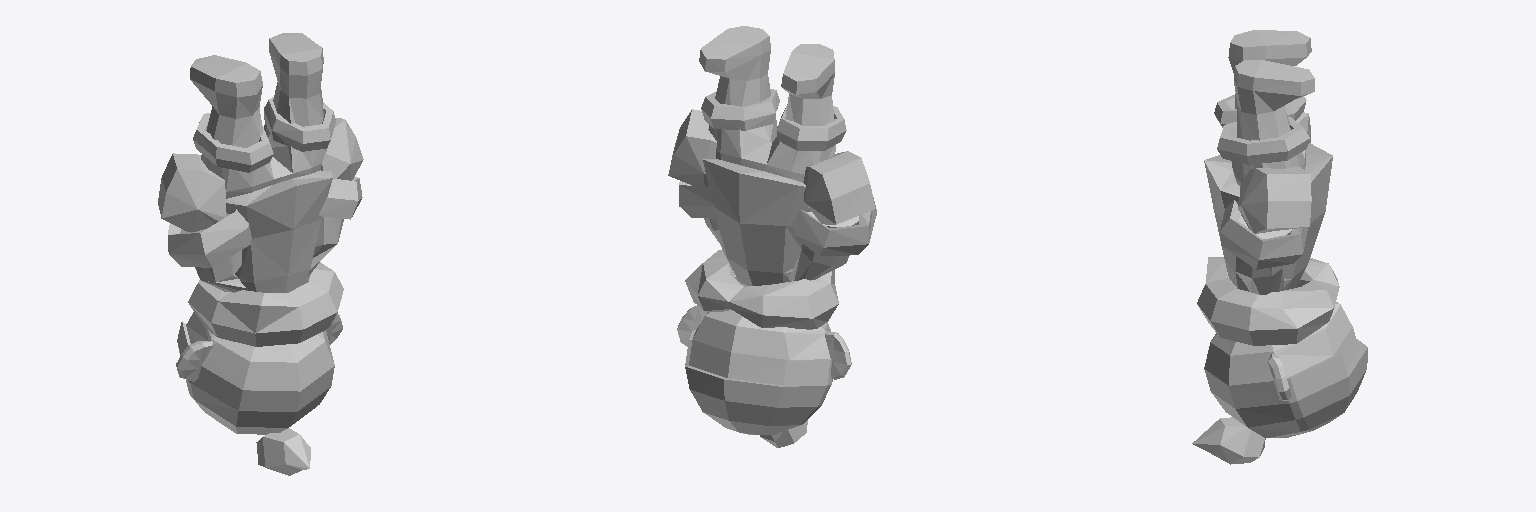
Rendered from eikacomer_000107.obj.
3 renders of one model, left to right at view 1: azimuth 30°, elevation 25°; view 2: azimuth 150°, elevation 25°; view 3: azimuth 270°, elevation 25°, orthographic.
Parts seen in each view (by area): view 1: Cylinder; view 2: Cylinder; view 3: Cylinder.
Part boxes in pixels (x1,y1,x2,y2): Cylinder: (158, 33, 363, 475); Cylinder: (668, 26, 876, 447); Cylinder: (1192, 30, 1367, 464).
Size of the model in its own units: 29.1 by 56.31 by 22.01.